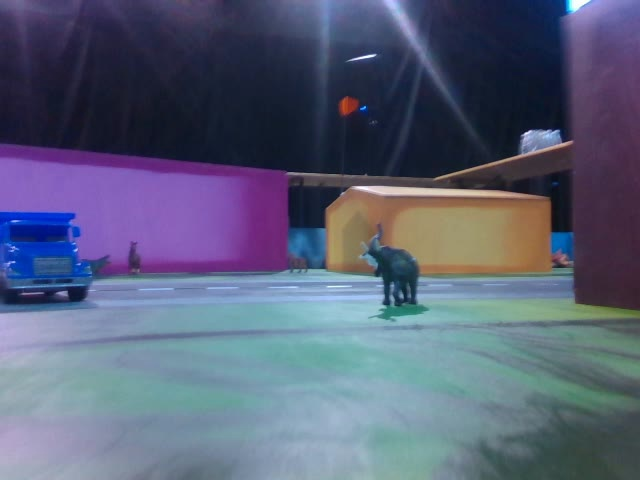toy: (359, 221, 422, 309), (285, 253, 309, 273), (127, 241, 141, 275)
